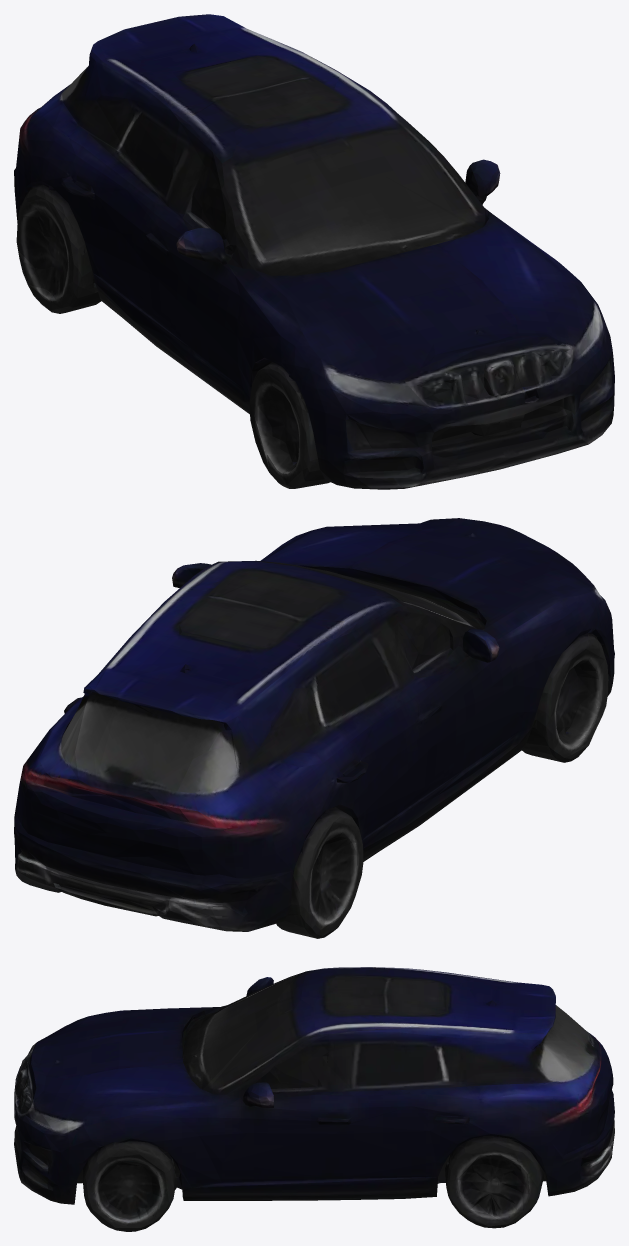
File: car_suv_navy.glb
The picture shows the model from 3 angles, top to bottom: view 1: azimuth 30°, elevation 25°; view 2: azimuth 150°, elevation 25°; view 3: azimuth 270°, elevation 25°; orthographic projection. The views are drawn at different scales.
Visible parts, largest first — view 1: geometry_0; view 2: geometry_0; view 3: geometry_0.
Boxes of the visible parts, left/top/right/bottom form: geometry_0: left=14, top=14, right=614, bottom=489; geometry_0: left=14, top=518, right=614, bottom=938; geometry_0: left=14, top=967, right=614, bottom=1231.
Bounding box in the file's own units: 0.47 × 0.3361 × 0.9976.
Materials: 1 (1 with a texture image).
